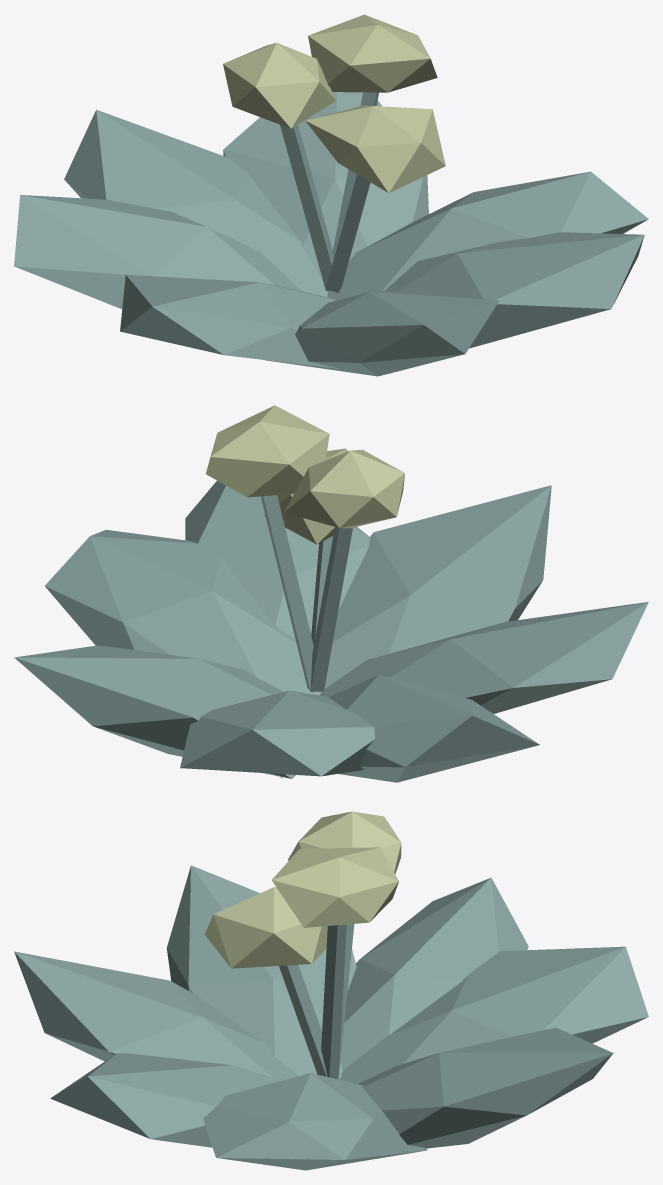
Rendered from strandkal_1.glb.
3 renders of one model, top to bottom at view 1: azimuth 30°, elevation 25°; view 2: azimuth 150°, elevation 25°; view 3: azimuth 270°, elevation 25°, orthographic. The views are drawn at different scales.
Parts seen in each view (by area): view 1: strandkal_1; view 2: strandkal_1; view 3: strandkal_1.
Part boxes in pixels (box(x1,y1,x2,y2)): strandkal_1: box(14, 14, 648, 376); strandkal_1: box(14, 405, 648, 782); strandkal_1: box(14, 811, 648, 1170).
Bounding box in the file's own units: 1.59 × 0.9243 × 1.67.
